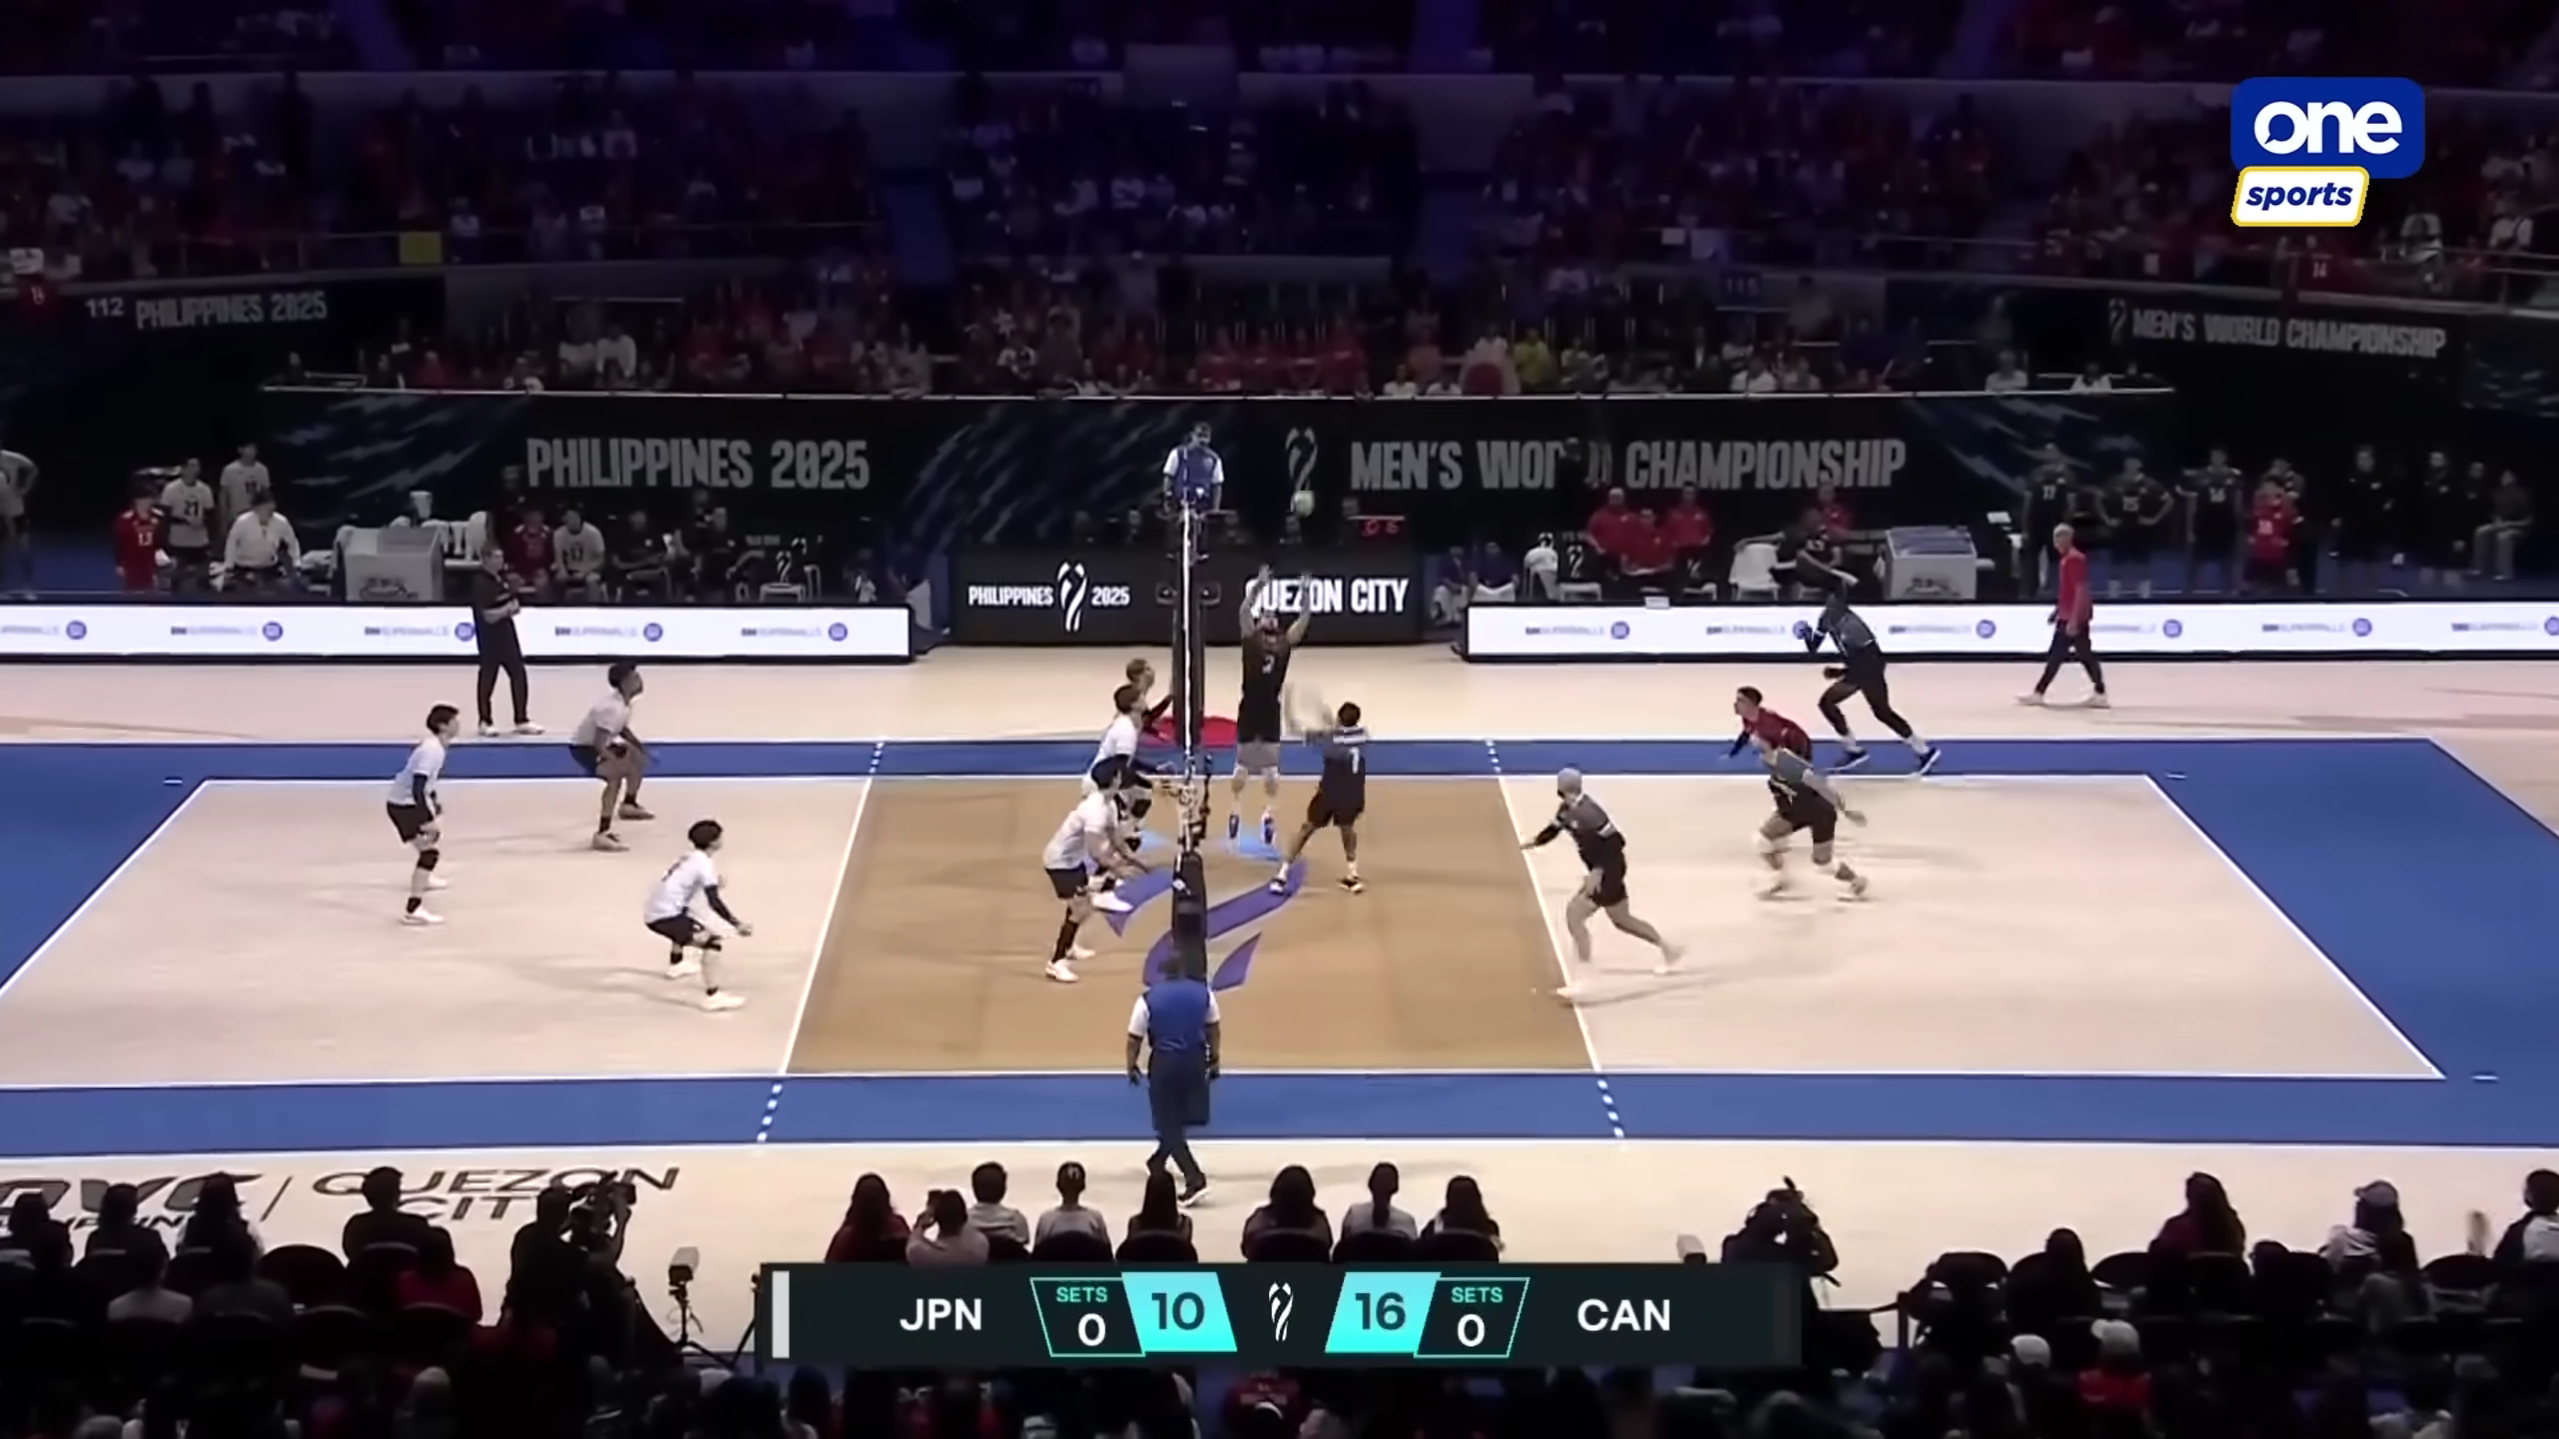Ball: (1288, 488, 1318, 518)
